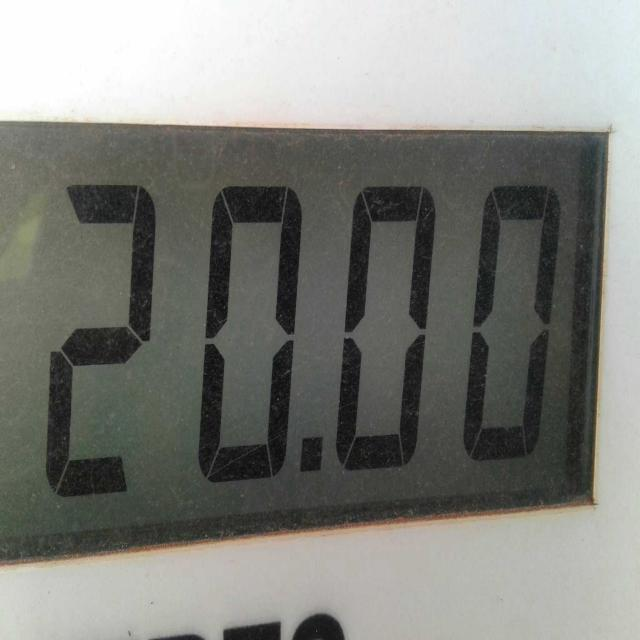.: (296, 430, 332, 483)
0: (329, 185, 437, 467), (200, 185, 296, 477), (464, 182, 560, 463)
2: (45, 180, 158, 500)
screen: (0, 115, 606, 553)
